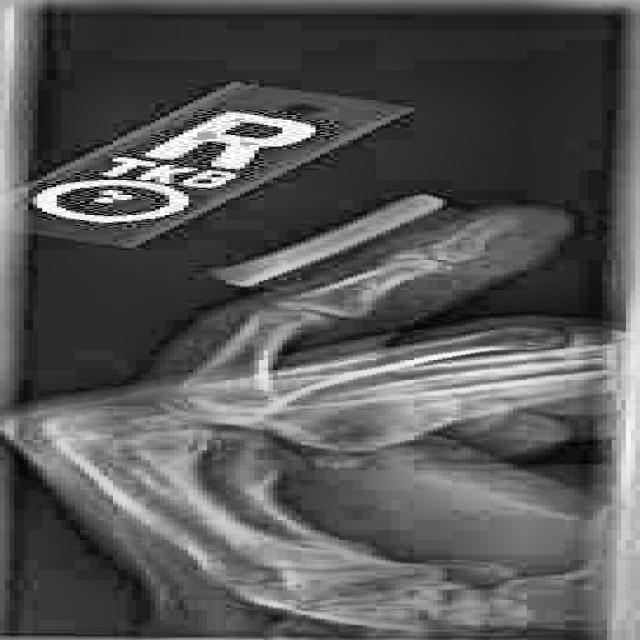fingers positive: (330, 231, 526, 289)
